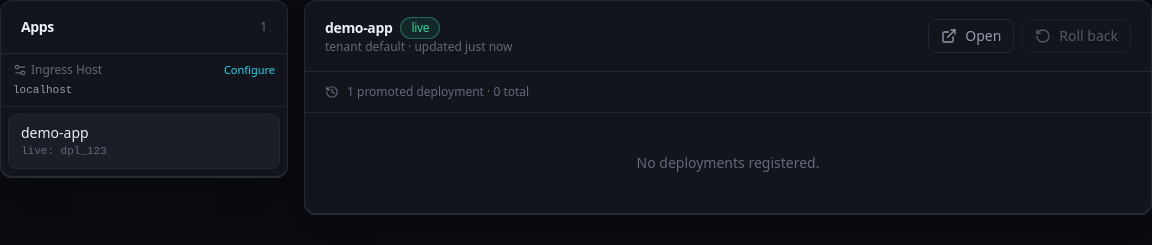
AppsTab ingress host configuration › allows user to change ingress host through the UI
Step 1. Click the button "Configure" → x=249, y=70, box [224,62,275,78]
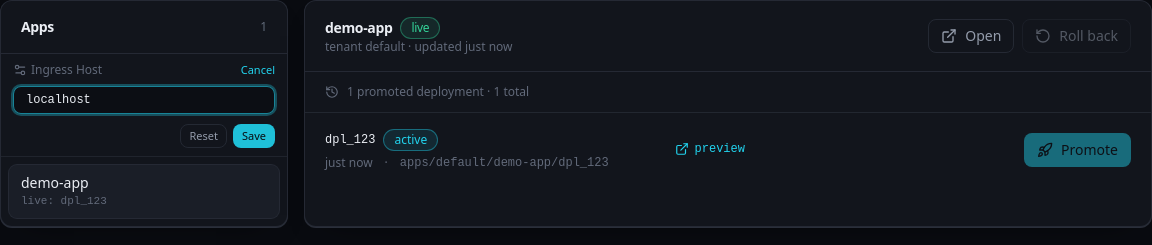
Step 2. Replace the text in the field with placeholder "e.g. localhost:8000" with "mycluster.local:9000" → x=144, y=100, box [13,86,275,114]
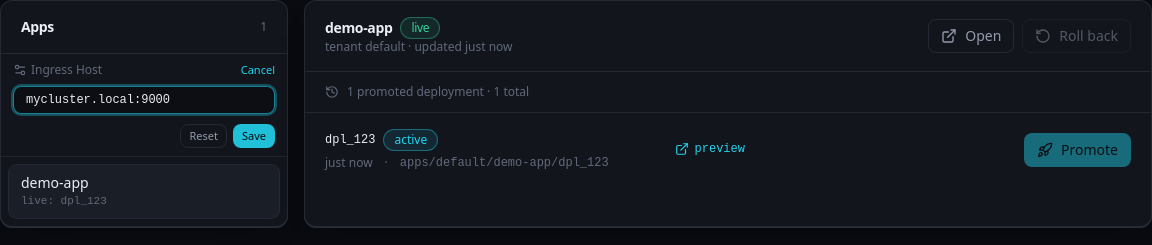
Step 3. Click the button "Save" → x=254, y=136, box [233,124,275,148]
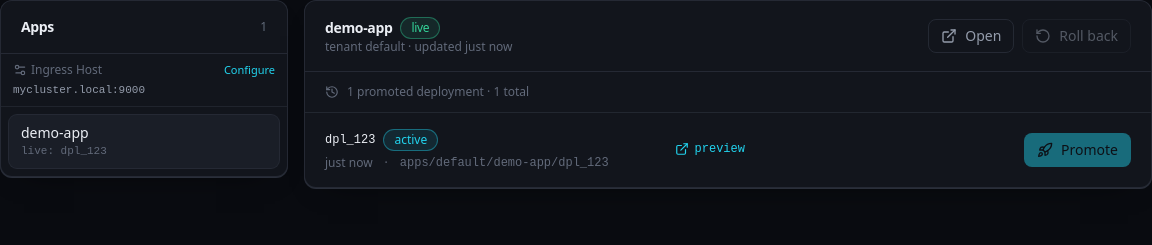
Check: the text "mycluster.local:9000" is shown, box [13,84,145,96]
